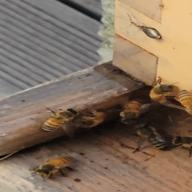Bee: (28, 104, 88, 134), (142, 77, 192, 110), (35, 154, 85, 176)
